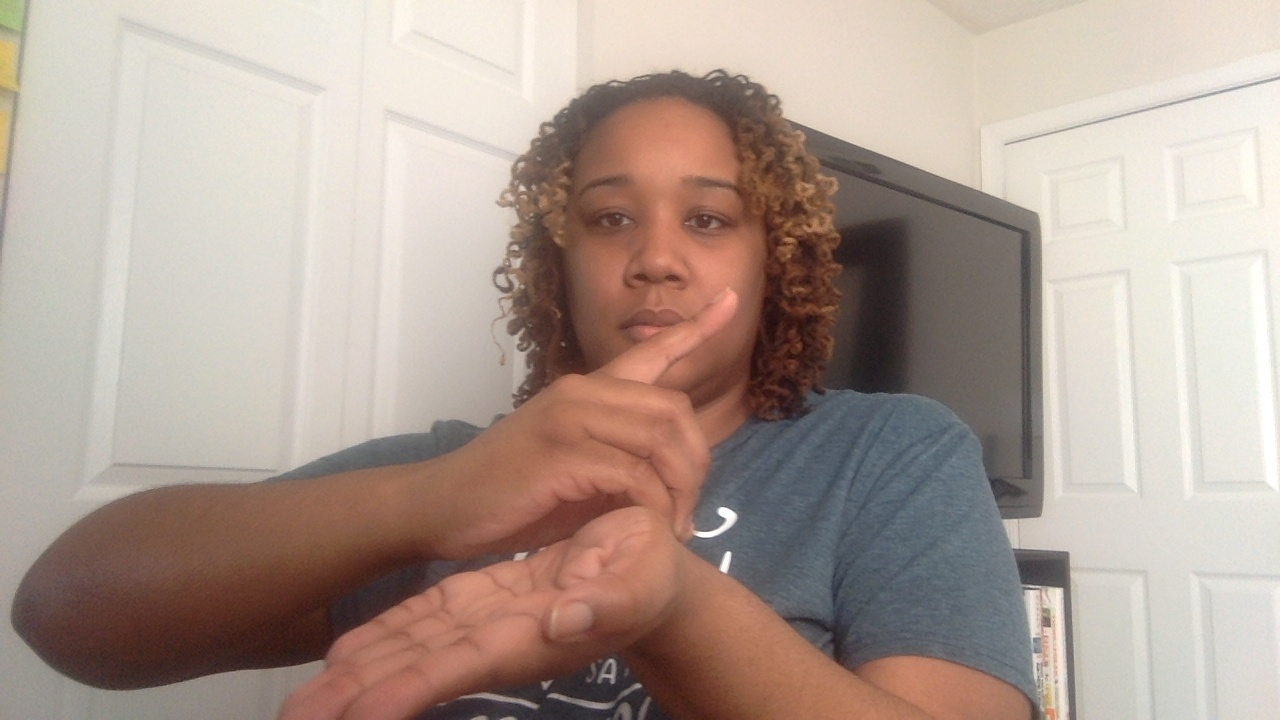doctor: (260, 288, 743, 720)
